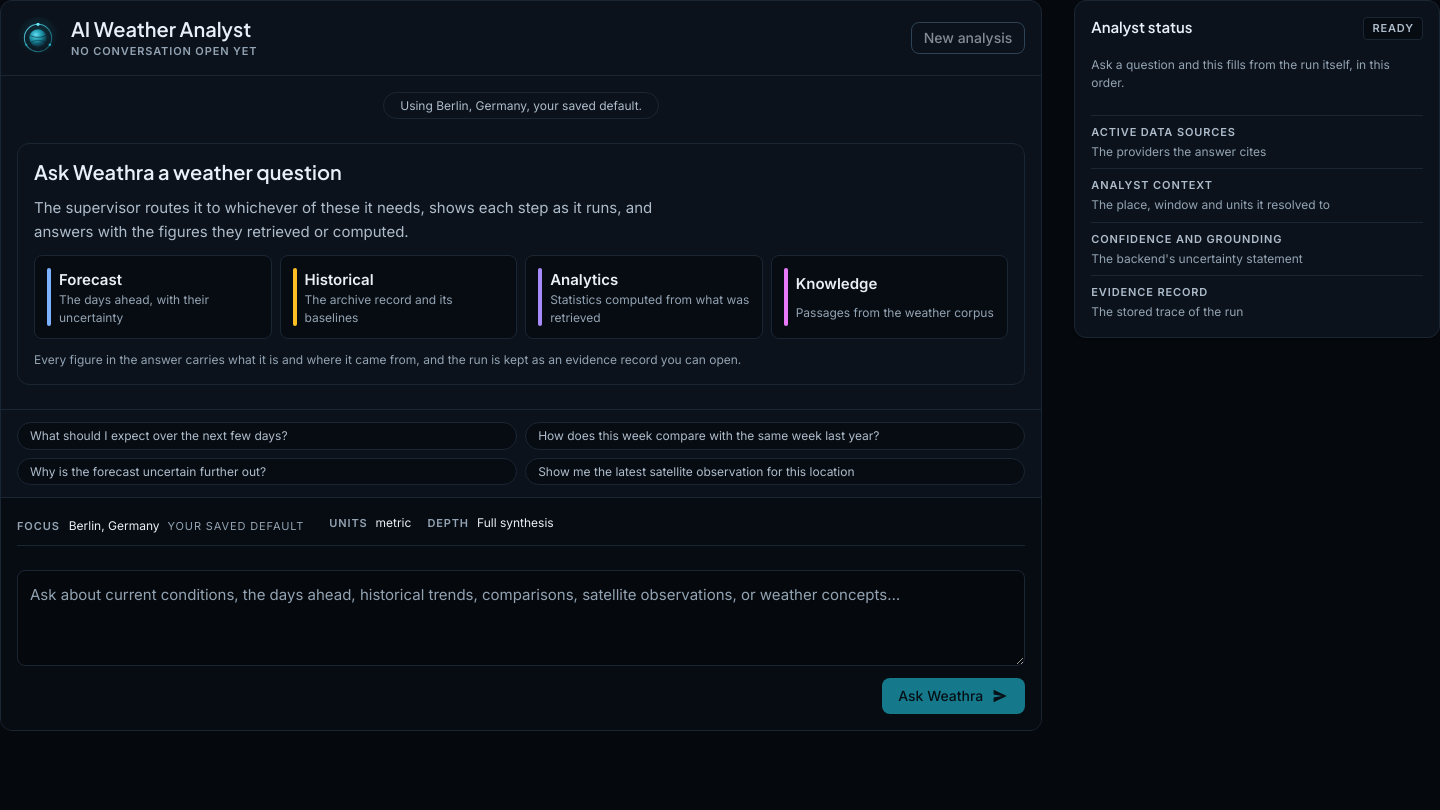
a streamed answer › renders the model's prose in its own interpretation region, with the model that wrote it
Replace the text in the text box named "Your weather question" with "What should I expect?": (521, 618) [17, 570, 1025, 666]
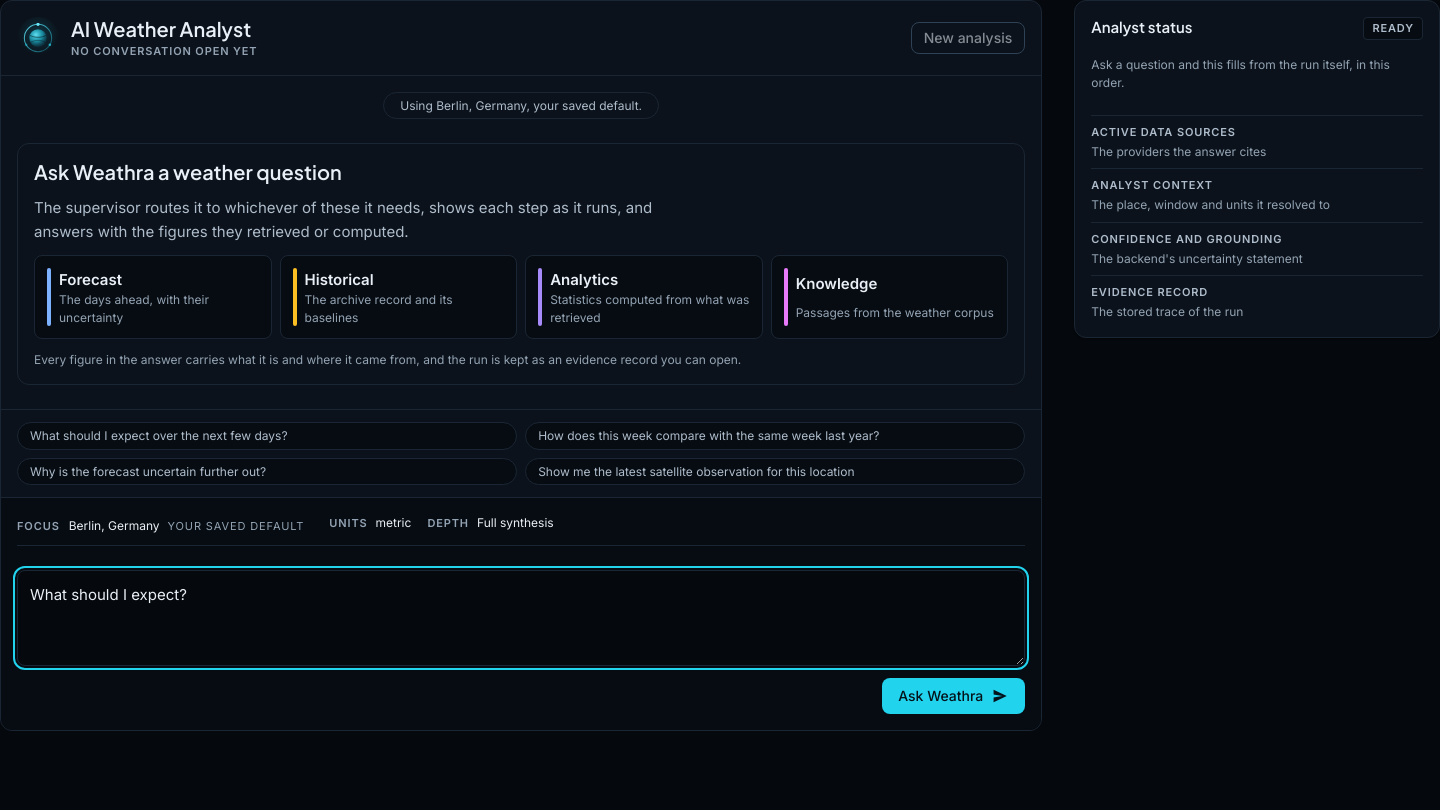
Click the button "Ask Weathra": (954, 696) [882, 678, 1025, 714]
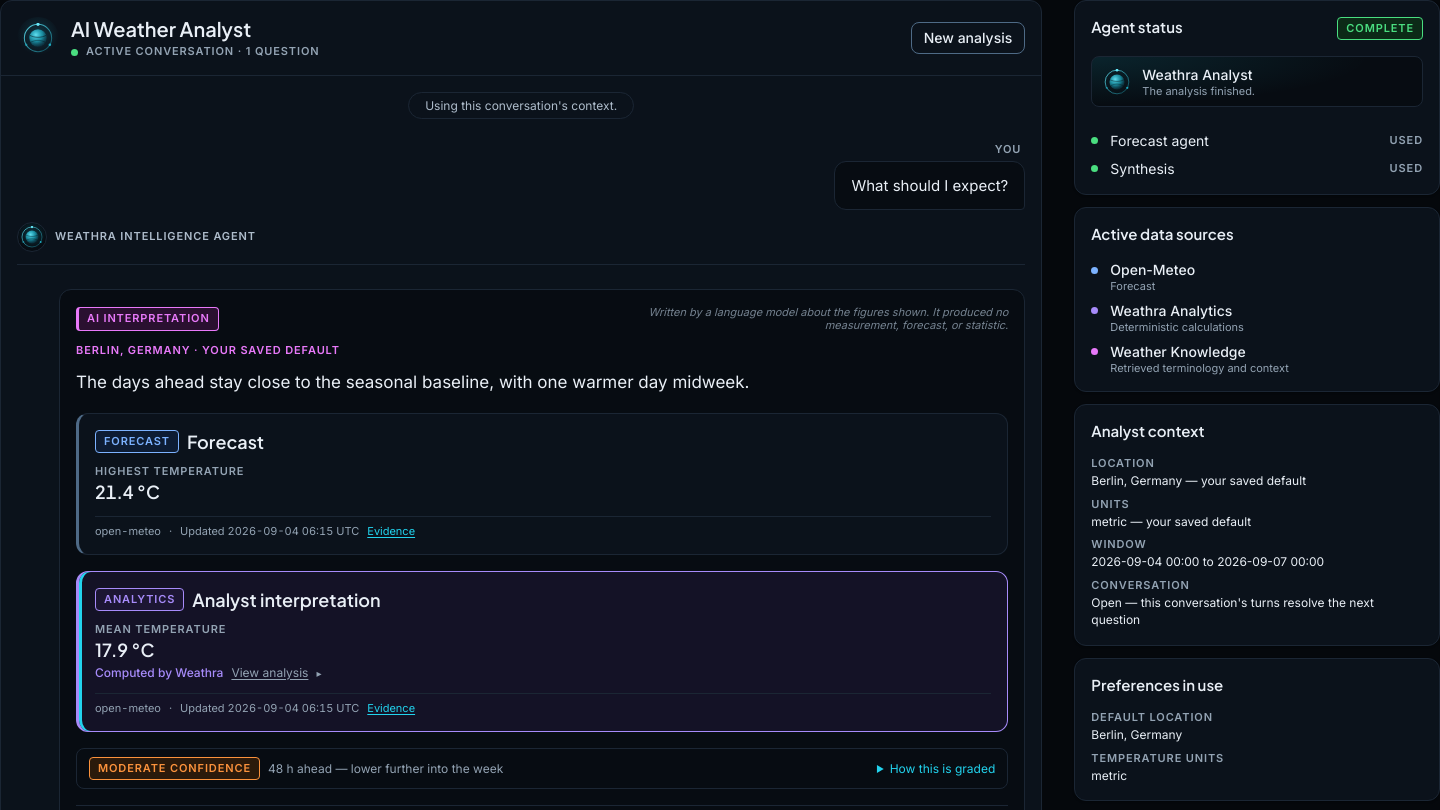
Result: the text "stay close to the seasonal baseline" is shown at [76, 372, 750, 392]
Result: the text "produced no measurement, forecast, or statistic" is shown at [649, 305, 1008, 332]
